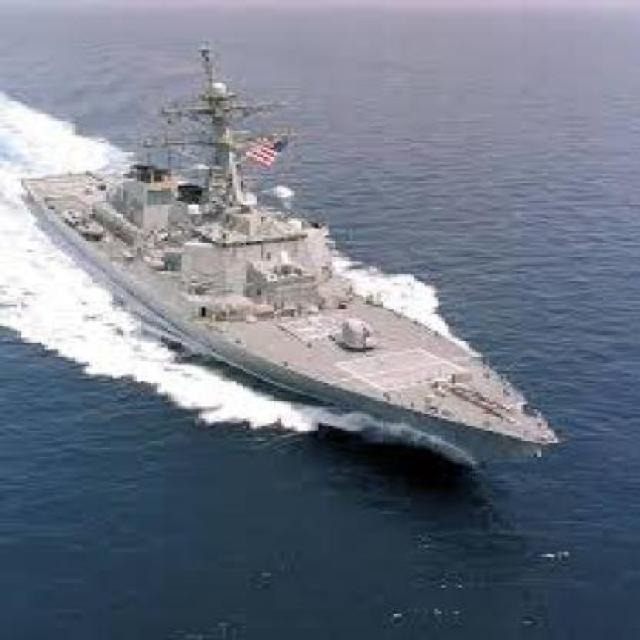warship2: (15, 44, 576, 496)
